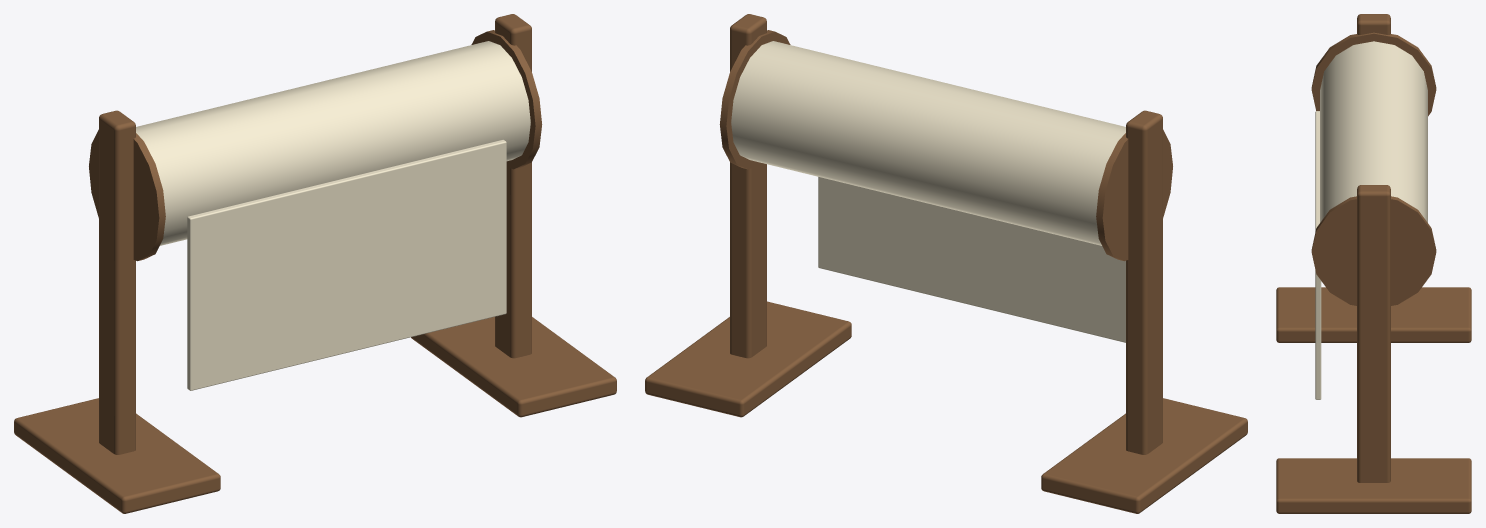
File: fantasy-cartographers-map-printing-guild-linen-backing-5f6dd703__32264.glb
The picture shows the model from 3 angles, left to right: view 1: azimuth 30°, elevation 25°; view 2: azimuth 150°, elevation 25°; view 3: azimuth 270°, elevation 25°; orthographic projection. The views are drawn at different scales.
Parts seen in each view (by area): view 1: linen-backing-roll-stand; view 2: linen-backing-roll-stand; view 3: linen-backing-roll-stand.
Part boxes in pixels (x1,y1,x2,y2): linen-backing-roll-stand: (14, 14, 616, 513); linen-backing-roll-stand: (645, 14, 1247, 513); linen-backing-roll-stand: (1276, 14, 1471, 513).
Size of the model in its own units: 1.5 by 1 by 0.58.
